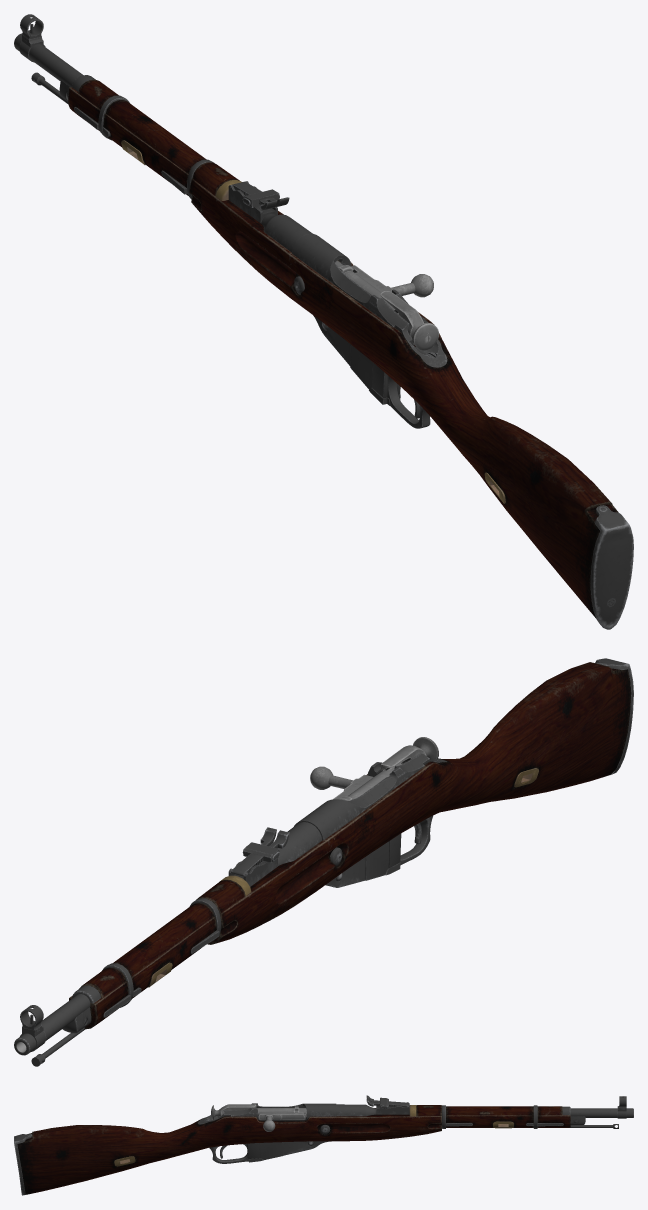
Rendered from mosin_1938.glb.
The picture shows the model from 3 angles, top to bottom: view 1: azimuth 30°, elevation 25°; view 2: azimuth 150°, elevation 25°; view 3: azimuth 270°, elevation 25°; orthographic projection. The views are drawn at different scales.
Visible parts, largest first — view 1: corpus_low, barrel_low, littleparts_metal_low, magazine_low, hammer_low, bolt_handle_low; view 2: corpus_low, barrel_low, magazine_low, littleparts_metal_low, bolt_handle_low, hammer_low, sighting_device_low; view 3: corpus_low, barrel_low, magazine_low, littleparts_metal_low, bolt_handle_low, littleparts_brass_low, hammer_low, sighting_device_keeper_low, sighting_device_low, corpus_keeper_low.
Part boxes in pixels (<box>): corpus_low: <box>68,79,618,617</box>; barrel_low: <box>14,33,447,367</box>; littleparts_metal_low: <box>59,75,633,629</box>; magazine_low: <box>313,315,430,428</box>; hammer_low: <box>380,291,438,350</box>; bolt_handle_low: <box>344,265,433,314</box>; corpus_low: <box>69,662,631,1029</box>; barrel_low: <box>14,753,447,1055</box>; magazine_low: <box>326,815,433,887</box>; littleparts_metal_low: <box>62,658,633,1033</box>; bolt_handle_low: <box>310,762,402,799</box>; hammer_low: <box>381,737,438,770</box>; sighting_device_low: <box>231,827,289,876</box>; corpus_low: <box>17,1105,570,1194</box>; barrel_low: <box>198,1103,633,1124</box>; magazine_low: <box>209,1141,331,1163</box>; littleparts_metal_low: <box>14,1105,585,1195</box>; bolt_handle_low: <box>256,1108,305,1131</box>; littleparts_brass_low: <box>114,1121,513,1166</box>; hammer_low: <box>211,1104,256,1119</box>; sighting_device_keeper_low: <box>376,1102,409,1114</box>; sighting_device_low: <box>366,1095,409,1107</box>; corpus_keeper_low: <box>446,1123,563,1126</box>.
Bounding box in the file's own units: 0.1128 × 0.2455 × 1.4.
Materials: 2 (2 with a texture image).
